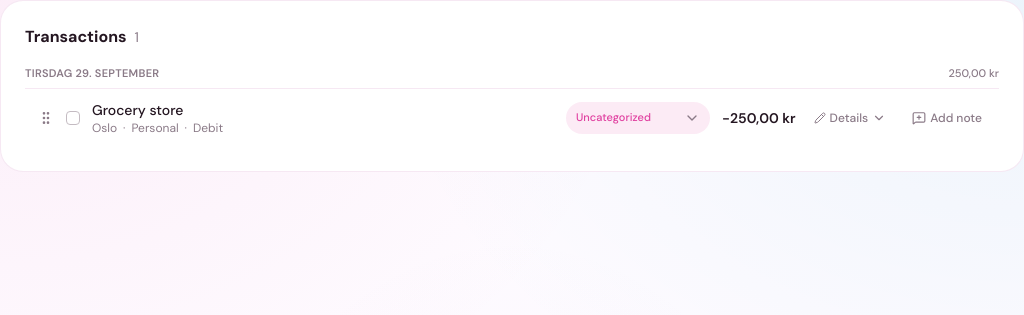
it: overview transaction interactions › keeps category and transaction details available without expanding
Expected: the button named "Drag Grocery store to a category" is shown, left=34, top=106, right=58, bottom=130
Expected: the dropdown named "Change category for Grocery store" is shown, left=566, top=102, right=710, bottom=134
Click the button with aria-label "Add note to Grocery store": {"x": 947, "y": 118} left=904, top=104, right=990, bottom=132
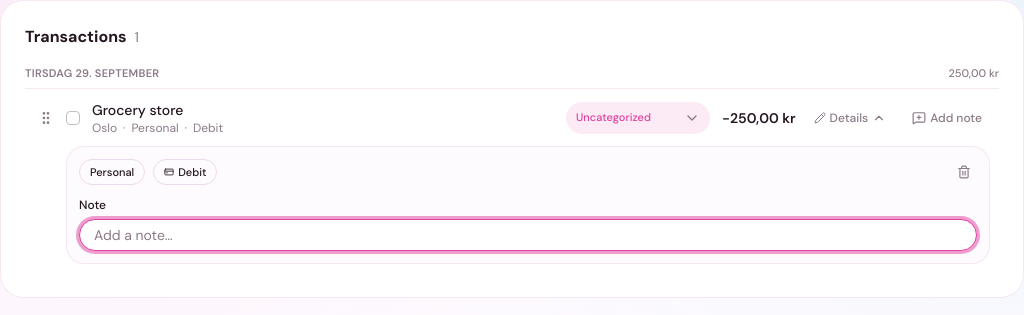
Now the field with placeholder "Add a note…" is shown, box left=79, top=219, right=977, bottom=251
